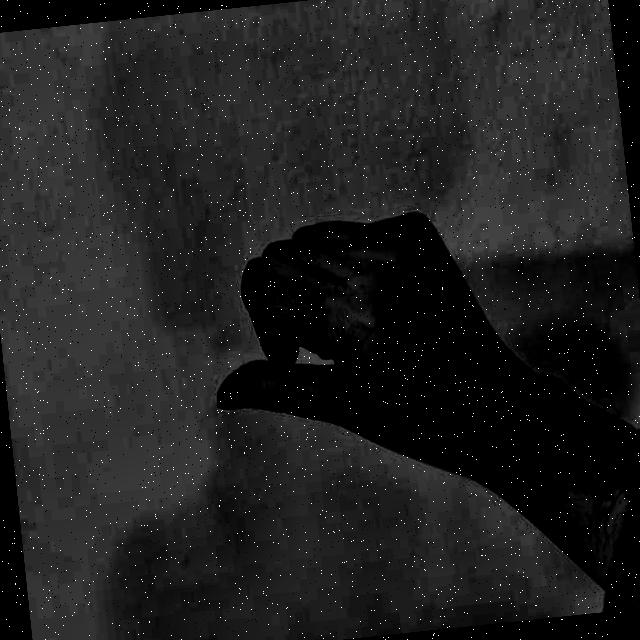Ay: (184, 151, 498, 541)
